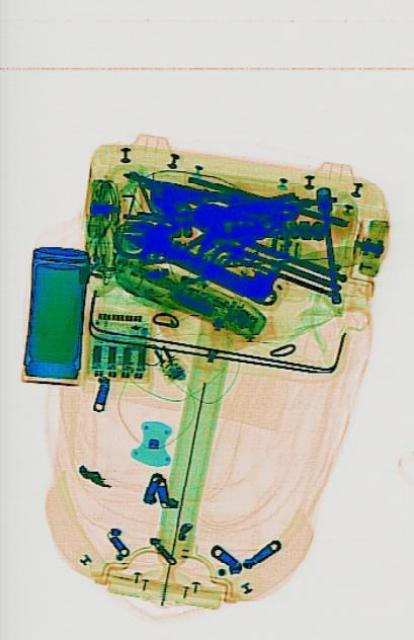Wrench: (122, 212, 276, 310)
